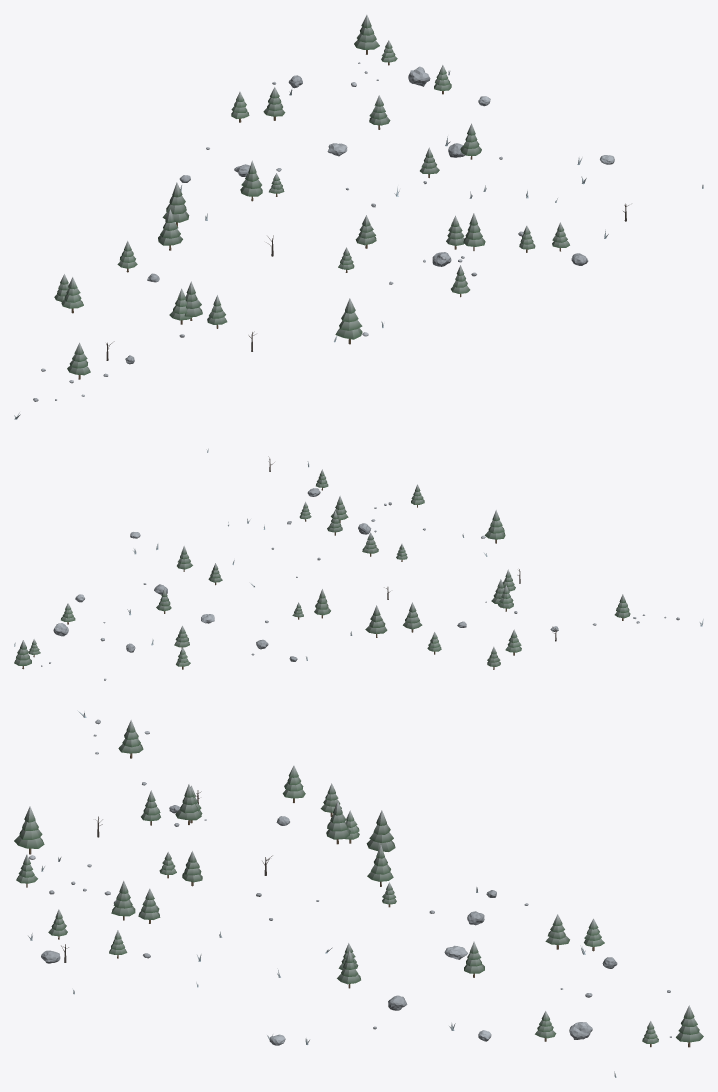
File: frost_land_scatter_c18_11.glb
The picture shows the model from 3 angles, top to bottom: view 1: azimuth 30°, elevation 25°; view 2: azimuth 150°, elevation 25°; view 3: azimuth 270°, elevation 25°; orthographic projection. The views are drawn at different scales.
Parts seen in each view (by area): view 1: frost_land_scatter_c18_11; view 2: frost_land_scatter_c18_11; view 3: frost_land_scatter_c18_11.
Boxes of the visible parts, x1,y1,x2,y2 form: frost_land_scatter_c18_11: (14, 15, 703, 419); frost_land_scatter_c18_11: (14, 448, 703, 680); frost_land_scatter_c18_11: (14, 710, 703, 1077).
Size of the model in its own units: 231 by 29.78 by 191.
